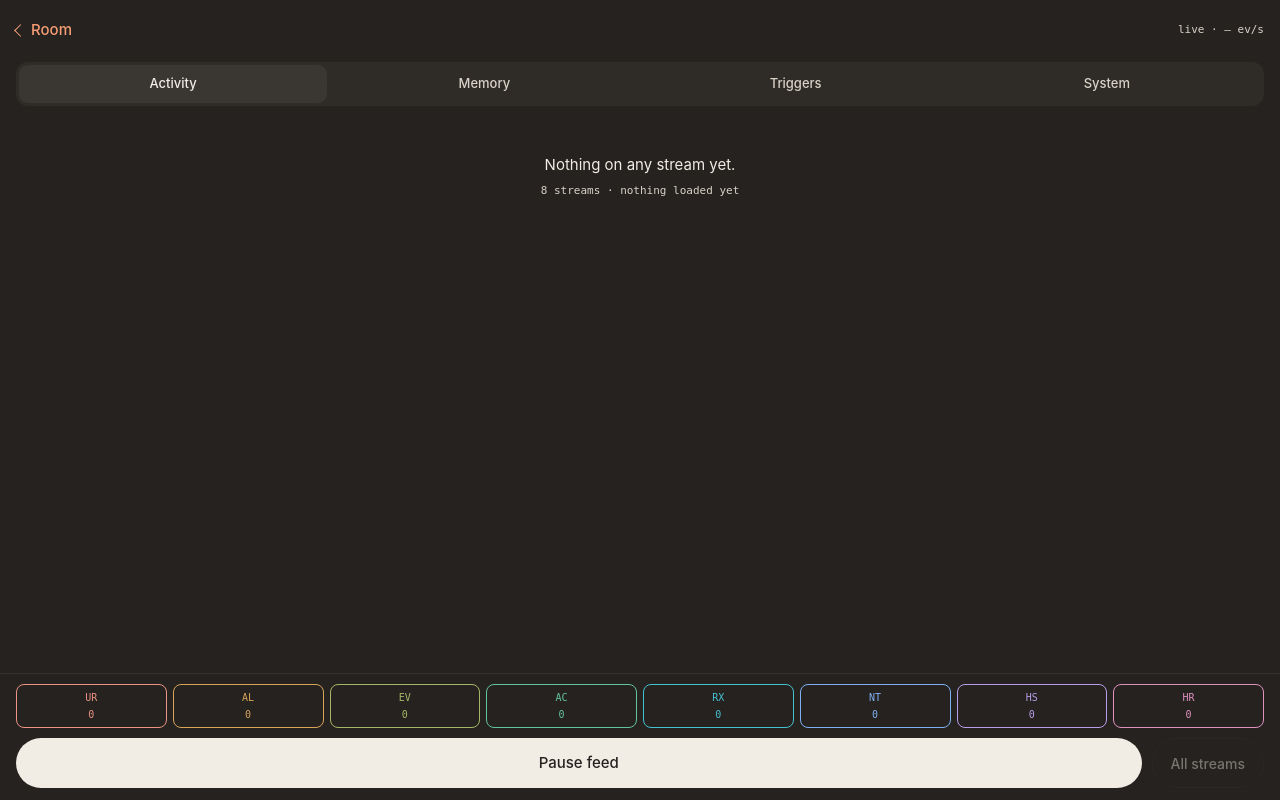
Workshop › opens on Activity, and each tab brings up the bench it names
The width and height of the screenshot is (1280, 800).
Expected: the button "Pause feed" is shown, [16, 738, 1142, 788]
Click the tab "Memory". click: coordinates (484, 84)
box: [330, 65, 639, 103]
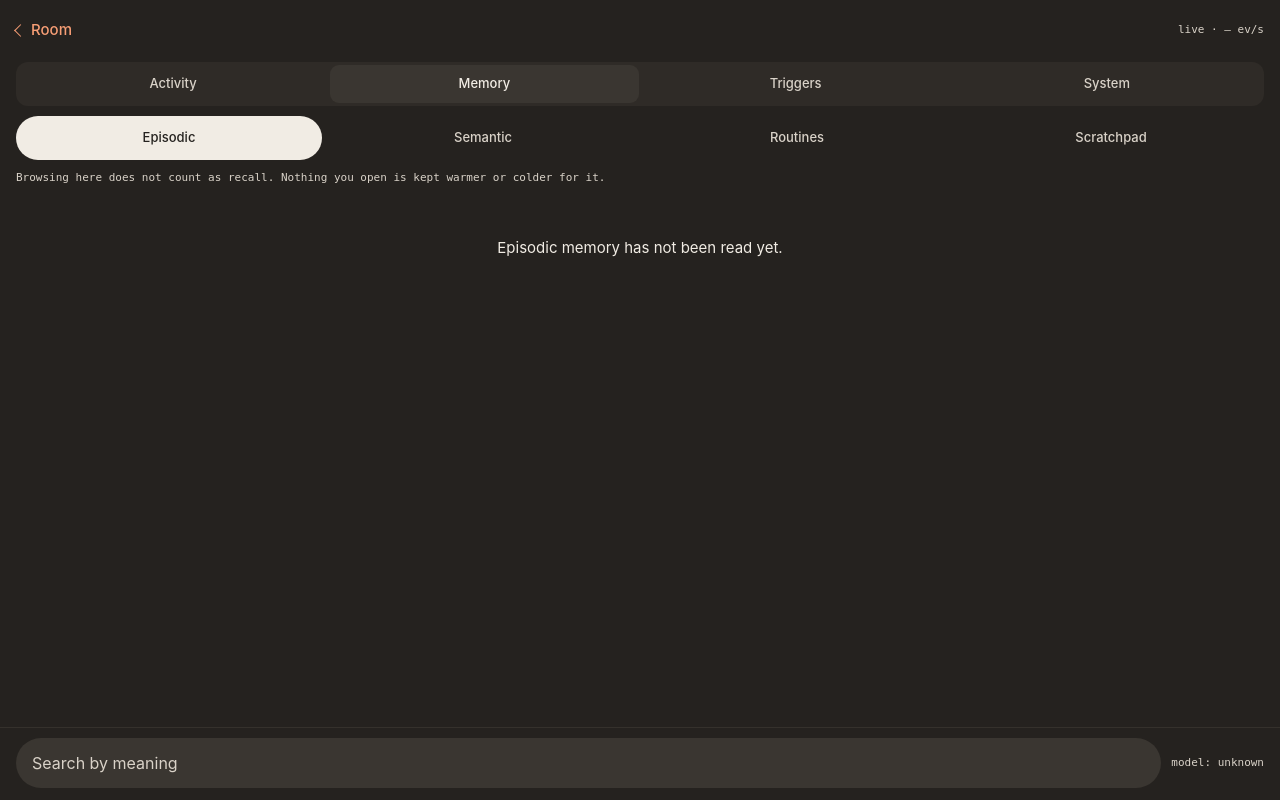
Expected: the element named "Memory" is shown, [16, 116, 1264, 160]
Expected: the button "Pause feed" is gone
Click the tab "Triggers". click: coordinates (796, 84)
box: [642, 65, 950, 103]
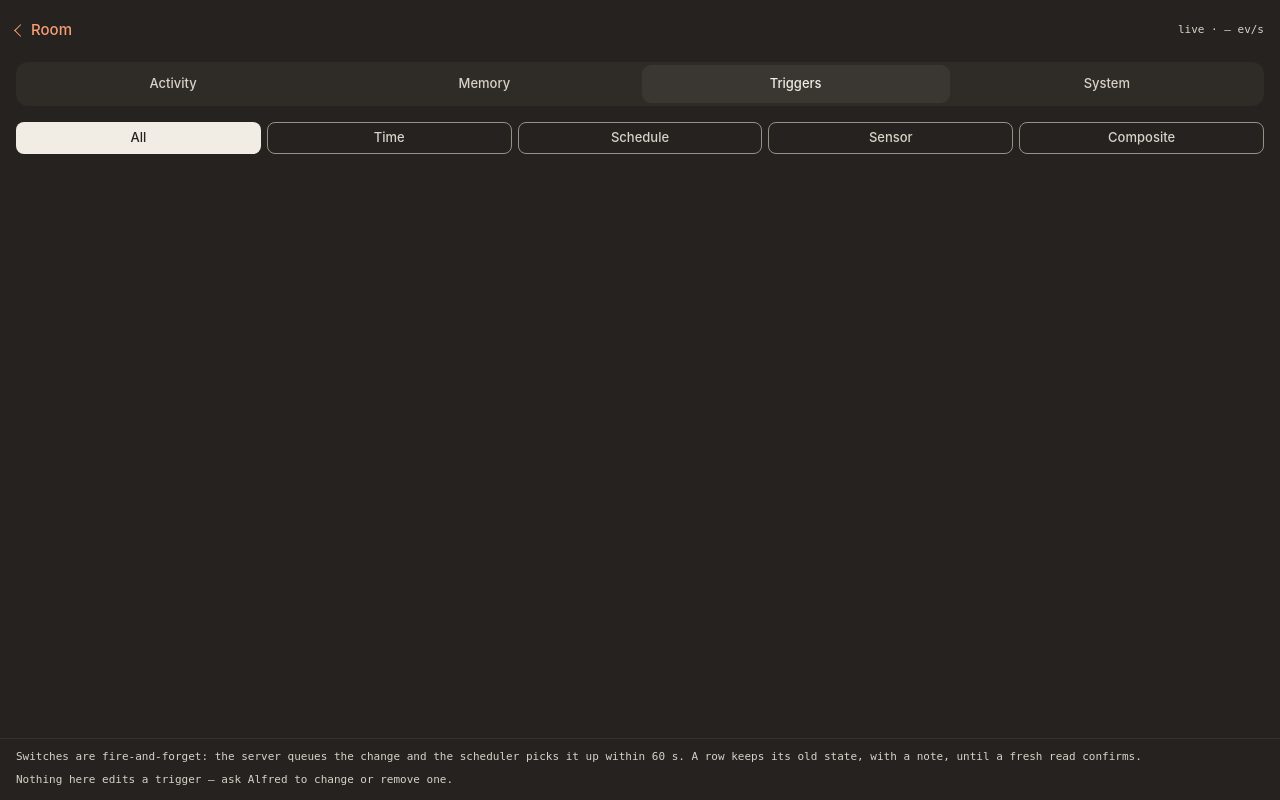
Expected: the element named "Trigger kinds" is shown, [16, 116, 1264, 160]
Click the tab "System". click: coordinates (1107, 84)
box: [953, 65, 1261, 103]
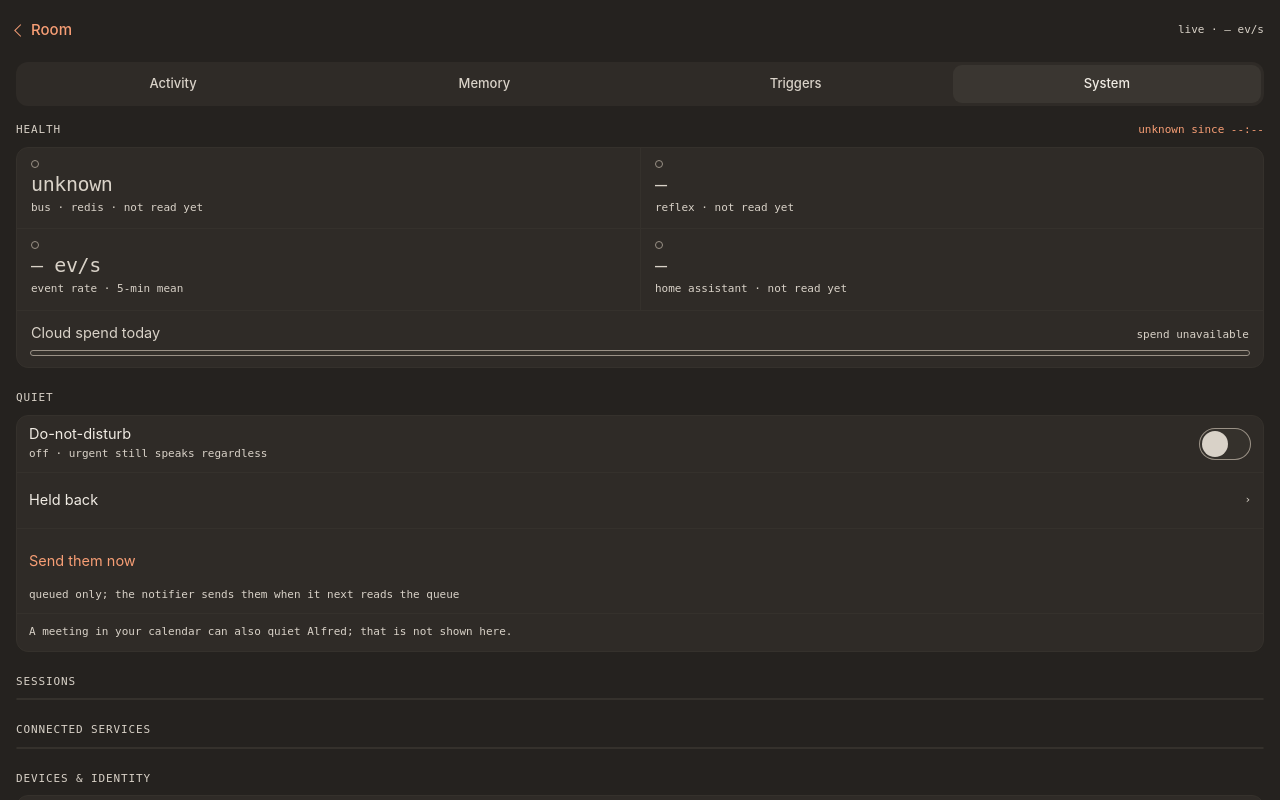
Expected: the switch named "Do-not-disturb" is shown, [1199, 428, 1251, 460]
Click the tab "Activity". click: coordinates (173, 84)
box: [19, 65, 327, 103]
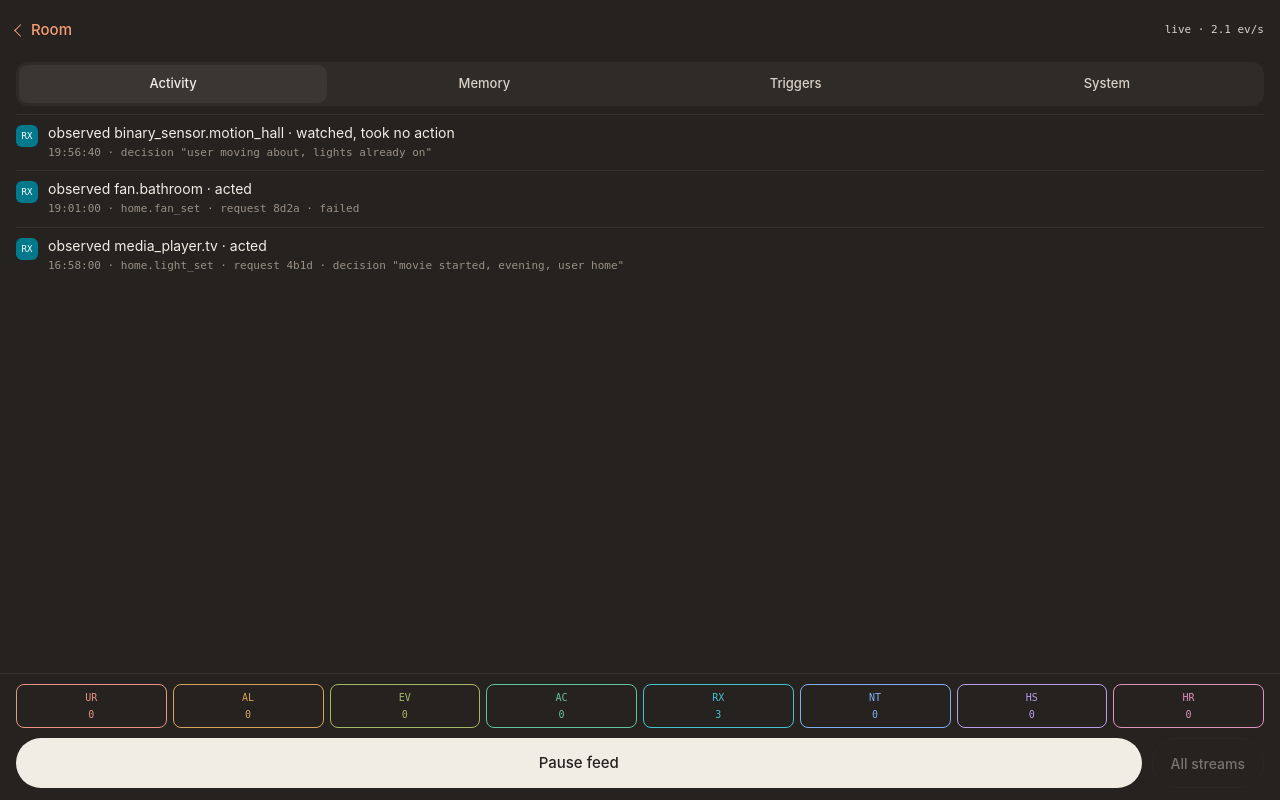
Expected: the button "Pause feed" is shown, [16, 738, 1142, 788]
